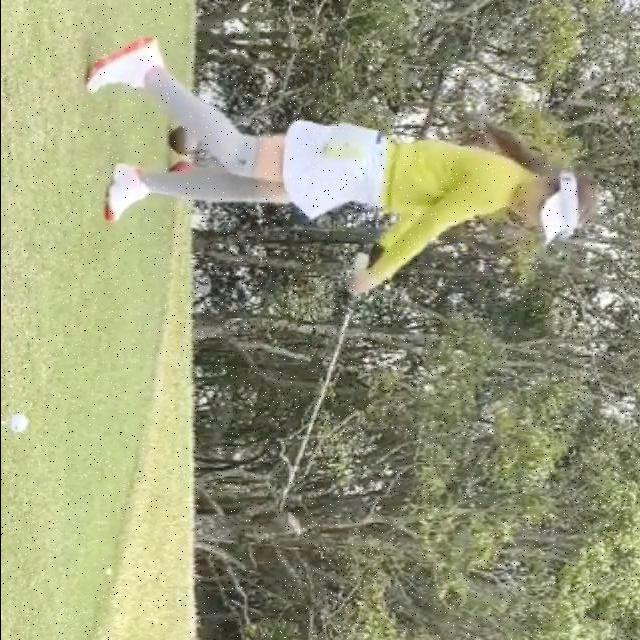ClubHandle: (267, 253, 368, 535)
ClubHead: (269, 511, 303, 540)
GolfBall: (6, 413, 31, 435)
